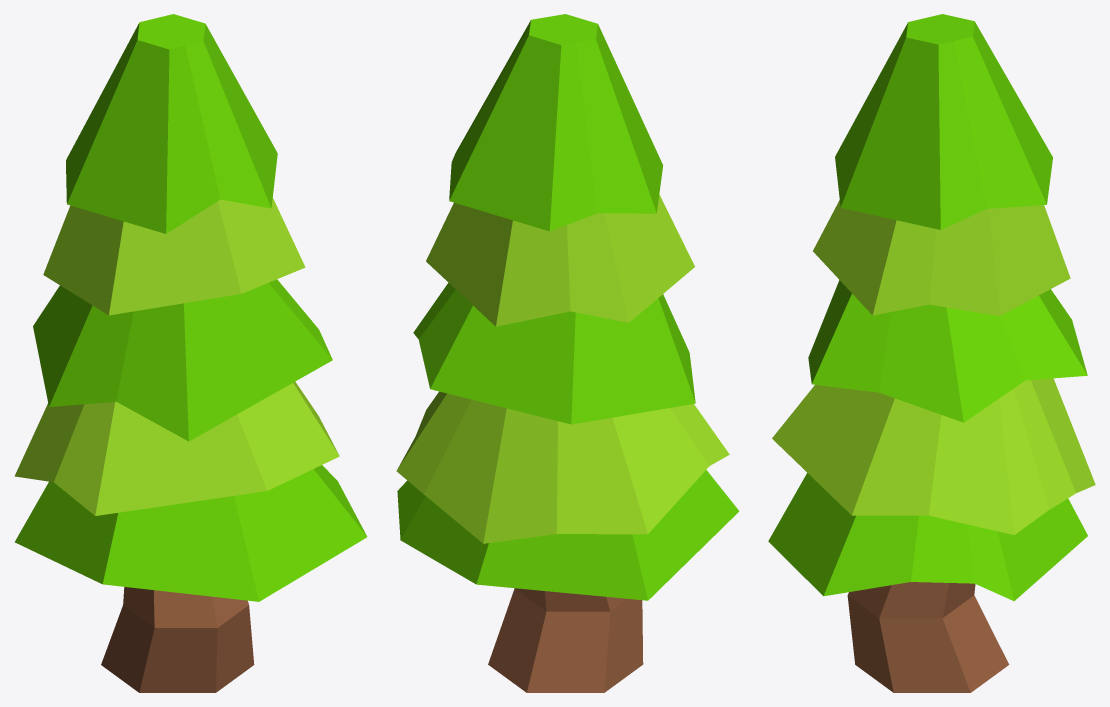
File: ArbolPrimavera2.fbx
3 views of the same model, side by side, from view 1: azimuth 30°, elevation 25°; view 2: azimuth 150°, elevation 25°; view 3: azimuth 270°, elevation 25° (orthographic).
Parts seen in each view (by area): view 1: Cylinder.005, Cylinder.003, Cylinder.001, Cylinder.002, Cylinder.004, Cylinder; view 2: Cylinder.002, Cylinder.005, Cylinder.003, Cylinder.004, Cylinder.001, Cylinder; view 3: Cylinder.002, Cylinder.005, Cylinder.003, Cylinder.001, Cylinder.004, Cylinder.
Boxes of the visible parts, x1,y1,x2,y2 form: Cylinder.005: [66, 14, 277, 233]; Cylinder.003: [33, 279, 332, 441]; Cylinder.001: [15, 465, 367, 601]; Cylinder.002: [15, 381, 339, 515]; Cylinder.004: [43, 198, 305, 315]; Cylinder: [101, 587, 254, 692]; Cylinder.002: [396, 391, 729, 543]; Cylinder.005: [449, 14, 663, 231]; Cylinder.003: [413, 283, 695, 424]; Cylinder.004: [426, 194, 694, 326]; Cylinder.001: [397, 470, 739, 600]; Cylinder: [488, 588, 643, 692]; Cylinder.002: [772, 378, 1095, 534]; Cylinder.005: [835, 14, 1052, 229]; Cylinder.003: [808, 280, 1087, 422]; Cylinder.001: [768, 473, 1087, 601]; Cylinder.004: [813, 200, 1070, 316]; Cylinder: [847, 582, 1009, 692].
Size of the model in its own units: 426 by 910 by 425.
